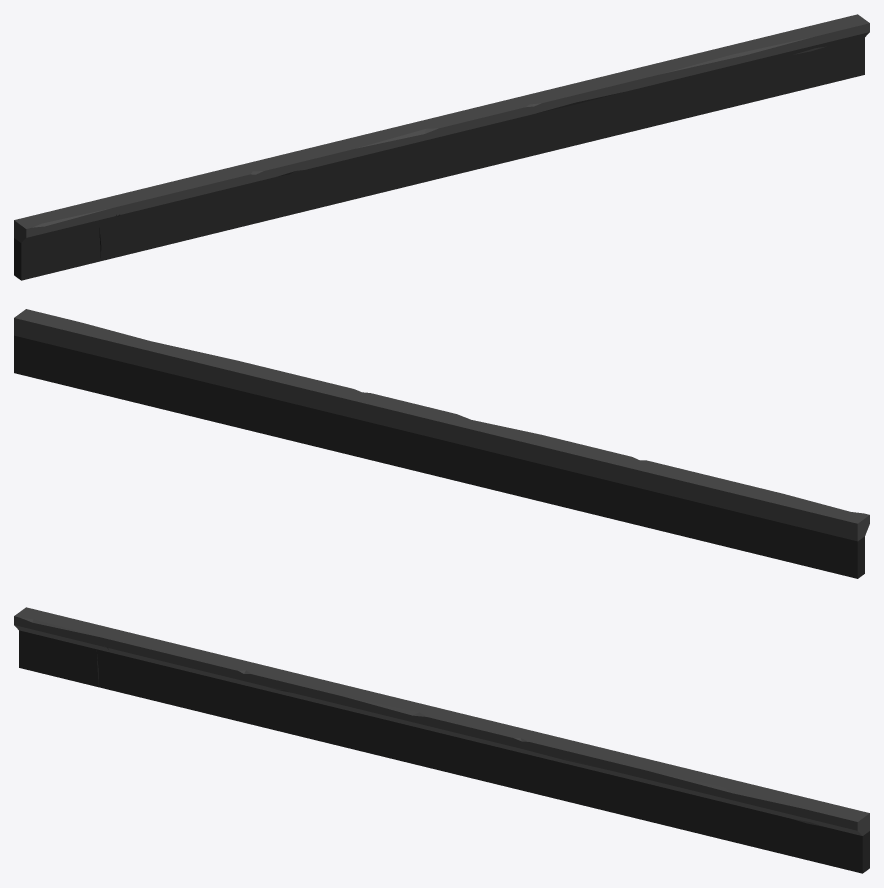
File: SW_ENV_RailTunnel_Wall_Ledge_A_20m.fbx
3 views of the same model, one above another, from view 1: azimuth 30°, elevation 25°; view 2: azimuth 150°, elevation 25°; view 3: azimuth 330°, elevation 25° (orthographic).
Visible parts, largest first — view 1: SW_ENV_RailTunnel_Wall_Ledge_A_20m; view 2: SW_ENV_RailTunnel_Wall_Ledge_A_20m; view 3: SW_ENV_RailTunnel_Wall_Ledge_A_20m.
Part boxes in pixels (x1=…): SW_ENV_RailTunnel_Wall_Ledge_A_20m: x1=14, y1=14, x2=869, y2=280; SW_ENV_RailTunnel_Wall_Ledge_A_20m: x1=14, y1=309, x2=869, y2=578; SW_ENV_RailTunnel_Wall_Ledge_A_20m: x1=14, y1=607, x2=869, y2=873.
Size of the model in its own units: 20 by 1.25 by 0.5.
